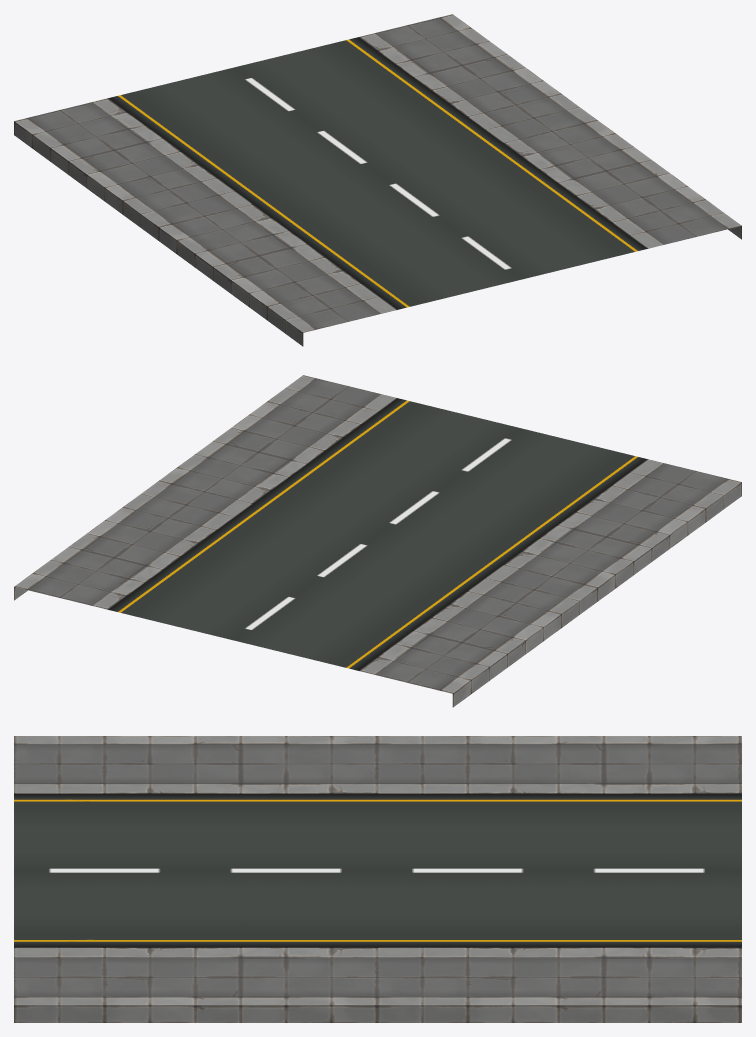
The model's file is Road1.FBX.
3 views of the same model, one above another, from view 1: azimuth 30°, elevation 25°; view 2: azimuth 150°, elevation 25°; view 3: azimuth 270°, elevation 25° (orthographic). The views are drawn at different scales.
Visible parts, largest first — view 1: polySurface11; view 2: polySurface11; view 3: polySurface11.
Part boxes in pixels (x1,y1,x2,y2): polySurface11: [14, 14, 741, 346]; polySurface11: [14, 375, 741, 707]; polySurface11: [14, 736, 741, 1022].
Size of the model in its own units: 10.51 by 0.3198 by 12.
